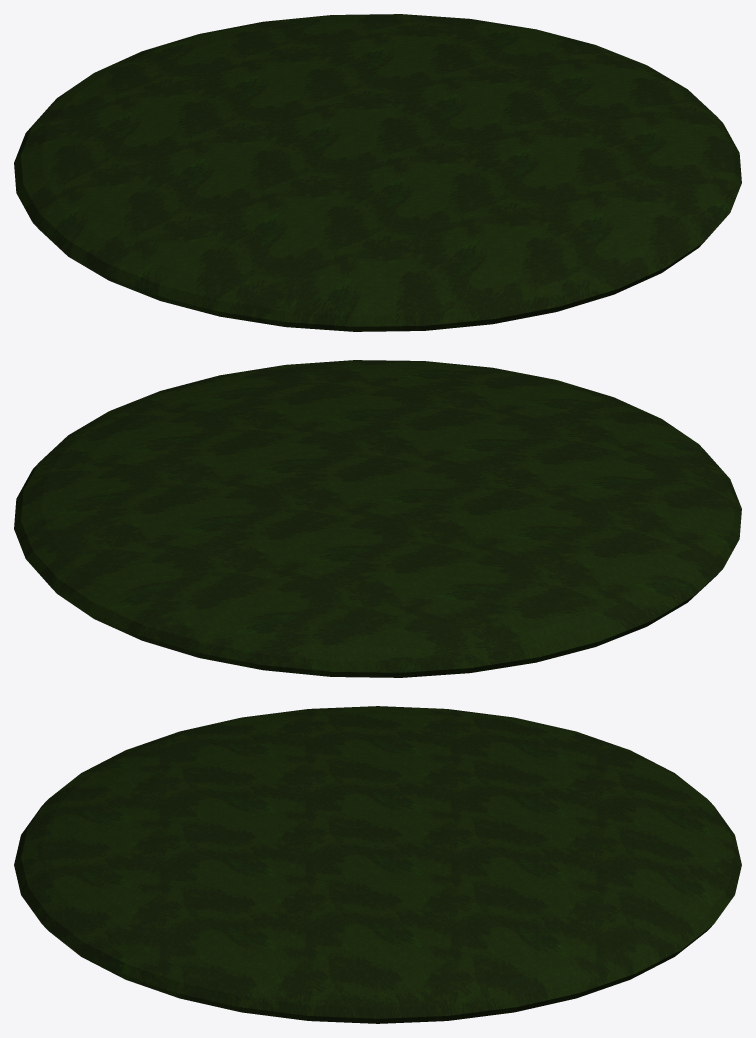
The model's file is terrible-island.fbx.
3 views of the same model, one above another, from view 1: azimuth 30°, elevation 25°; view 2: azimuth 150°, elevation 25°; view 3: azimuth 270°, elevation 25° (orthographic).
Parts seen in each view (by area): view 1: Sphere; view 2: Sphere; view 3: Sphere.
Part boxes in pixels (x1,y1,x2,y2): Sphere: (14, 14, 741, 331); Sphere: (14, 360, 741, 677); Sphere: (14, 706, 741, 1023).
Size of the model in its own units: 1600 by 200 by 1600.
Materials: 1 (1 with a texture image).
